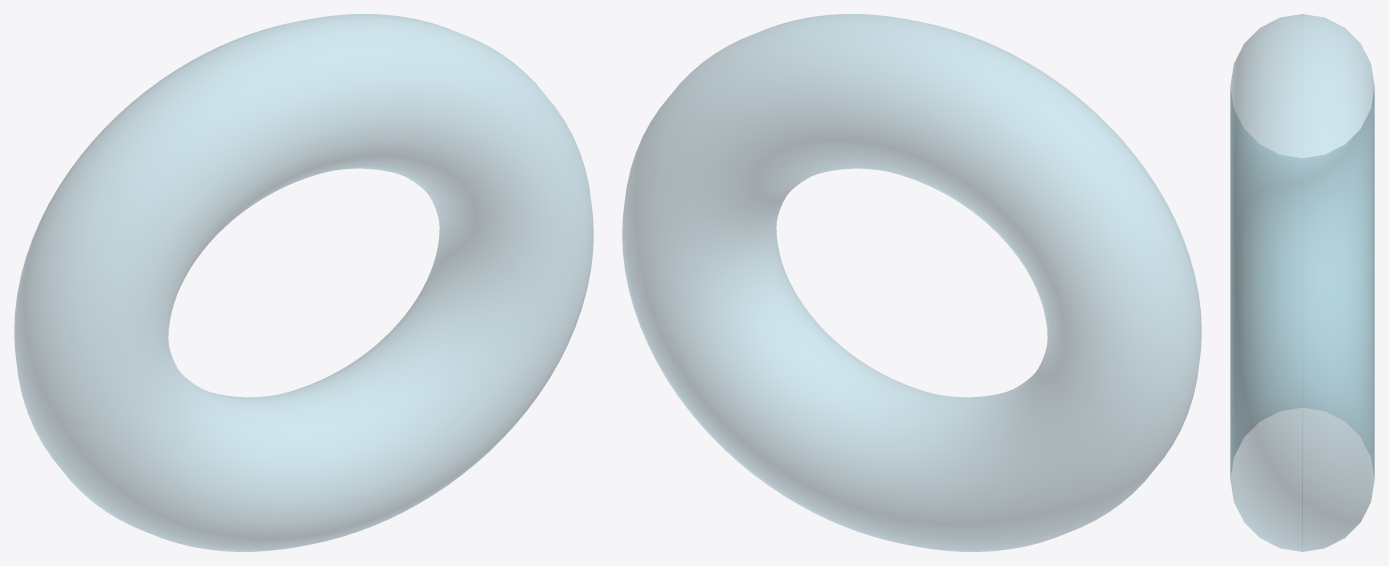
The picture shows the model from 3 angles, left to right: view 1: azimuth 30°, elevation 25°; view 2: azimuth 150°, elevation 25°; view 3: azimuth 270°, elevation 25°; orthographic projection. The views are drawn at different scales.
Parts seen in each view (by area): view 1: gel-body; view 2: gel-body; view 3: gel-body.
Part boxes in pixels (<box>): gel-body: <box>14,14,593,551</box>; gel-body: <box>622,14,1201,551</box>; gel-body: <box>1230,14,1374,551</box>.
Size of the model in its own units: 2 by 1.74 by 0.48.
